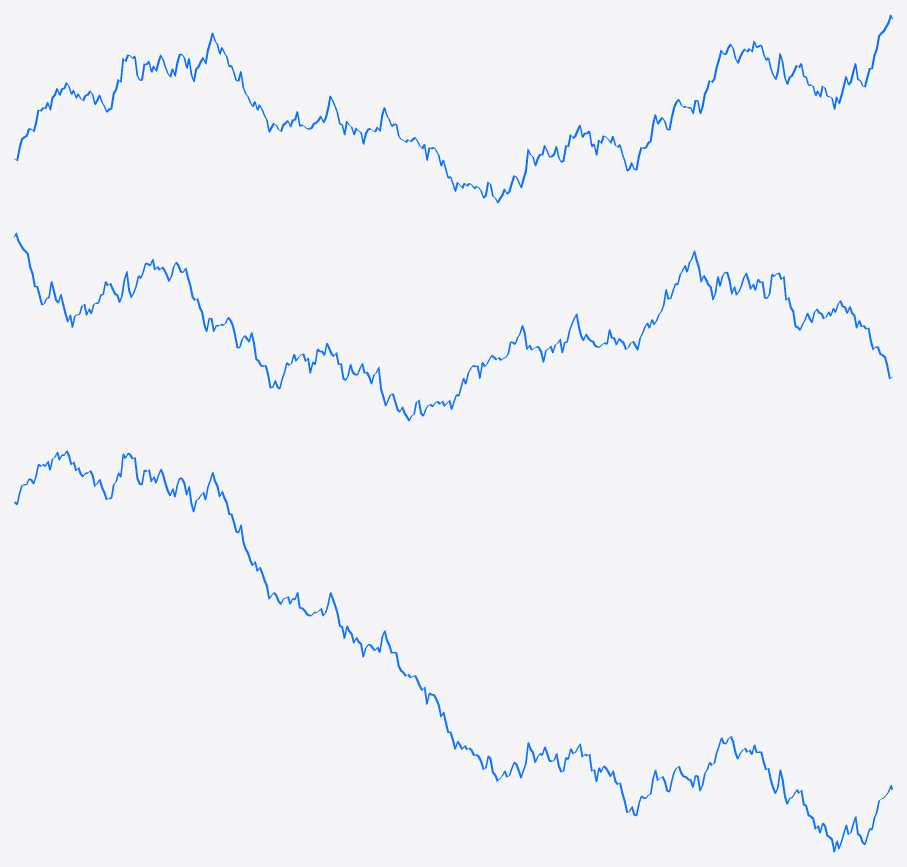
The model's file is ou_process.glb.
The picture shows the model from 3 angles, top to bottom: view 1: azimuth 30°, elevation 25°; view 2: azimuth 150°, elevation 25°; view 3: azimuth 330°, elevation 25°; orthographic projection.
Visible parts, largest first — view 1: OUCurveObj.002; view 2: OUCurveObj.002; view 3: OUCurveObj.002.
Part boxes in pixels (x1=…): OUCurveObj.002: x1=14, y1=14, x2=892, y2=203; OUCurveObj.002: x1=14, y1=232, x2=892, y2=421; OUCurveObj.002: x1=14, y1=450, x2=892, y2=852.
Size of the model in its own units: 3.73 by 0.9763 by 0.012.
